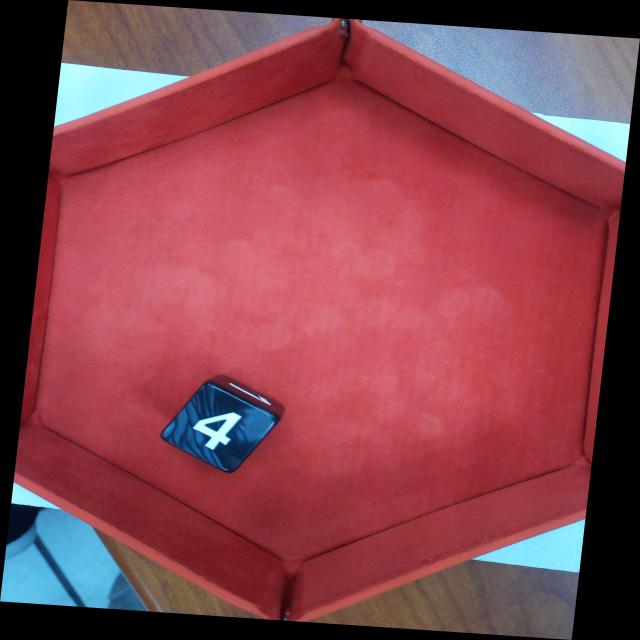dice: (165, 390, 278, 472)
